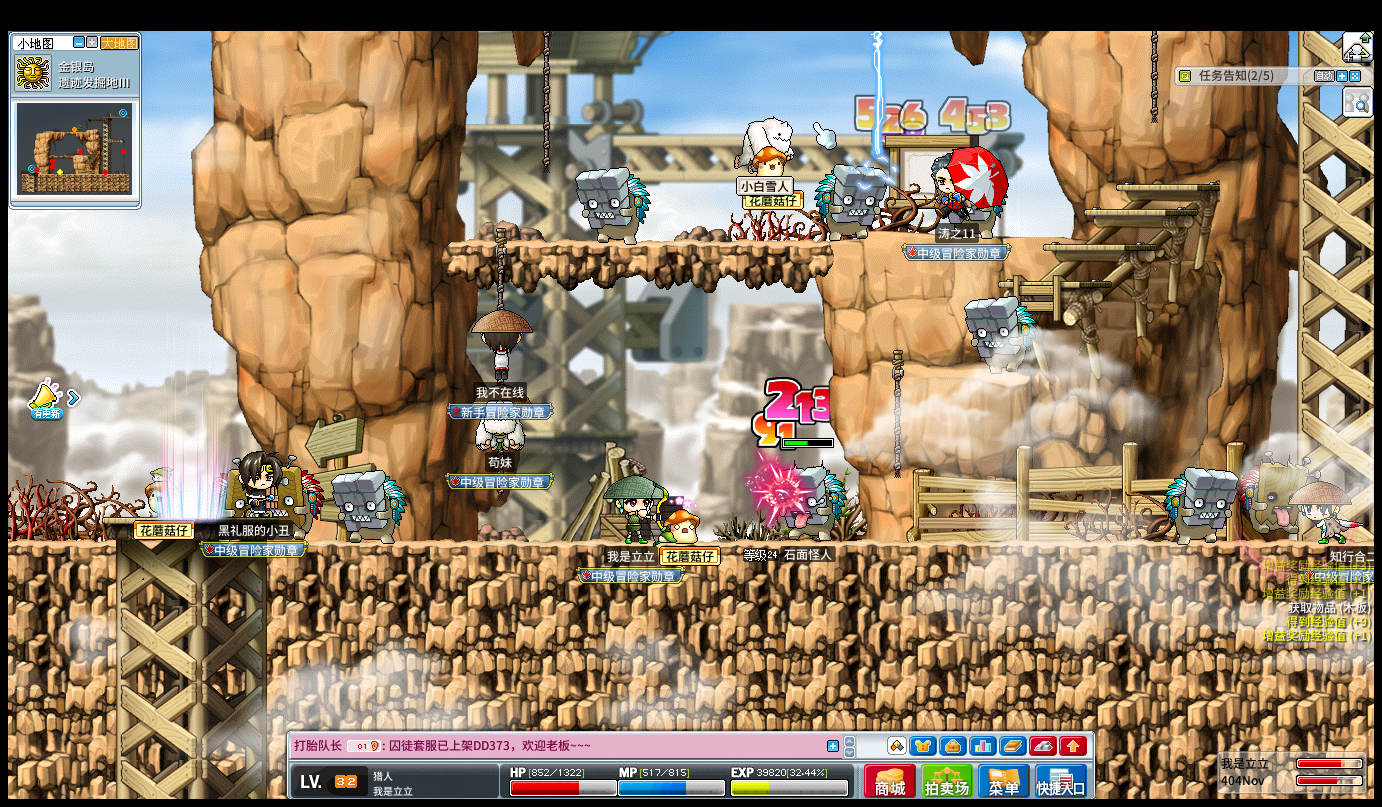floor: (308, 539, 1373, 550), (446, 240, 830, 252), (924, 366, 1032, 388), (103, 517, 278, 525), (8, 538, 116, 549), (997, 281, 1112, 289), (1043, 243, 1156, 251), (1084, 209, 1198, 216), (1116, 184, 1219, 191), (994, 234, 1081, 242)
monster: (1164, 468, 1239, 546), (575, 168, 651, 244), (964, 296, 1037, 374), (331, 471, 407, 545), (815, 164, 887, 241), (774, 466, 847, 541), (1240, 451, 1304, 533)
rope: (892, 350, 903, 478), (542, 31, 550, 174), (495, 227, 506, 310), (1150, 31, 1159, 124)
